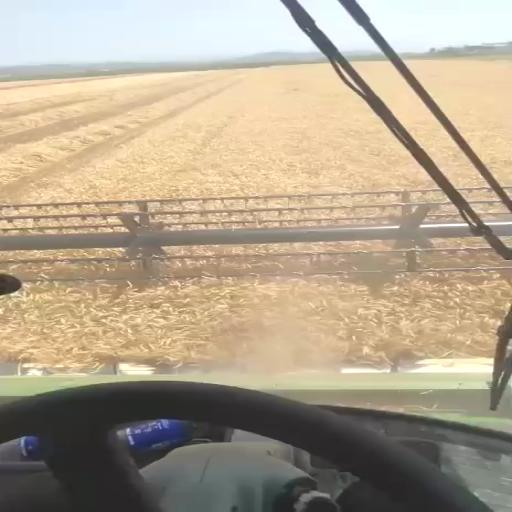bugday: (0, 58, 511, 375), (403, 54, 511, 206)
